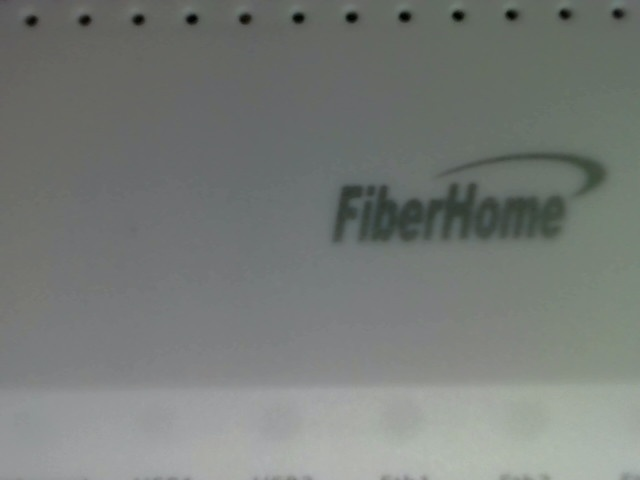AI_FiberHome: (323, 138, 625, 271)
